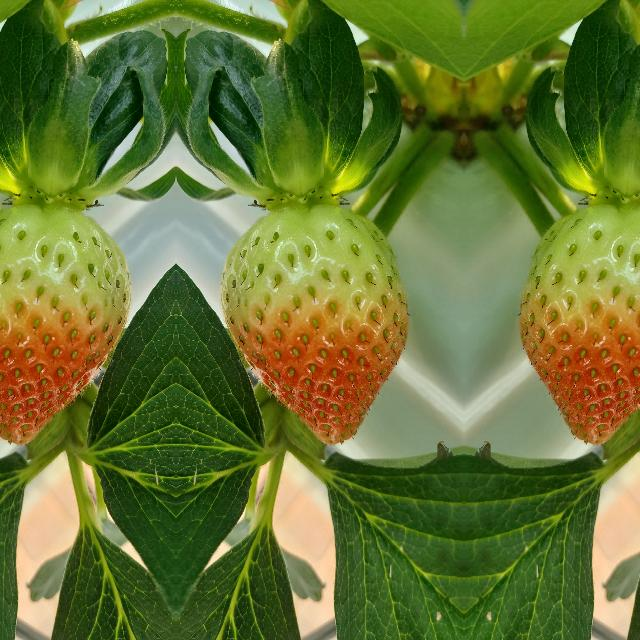Health_50: (220, 205, 406, 445), (0, 205, 130, 445), (519, 205, 640, 445)
